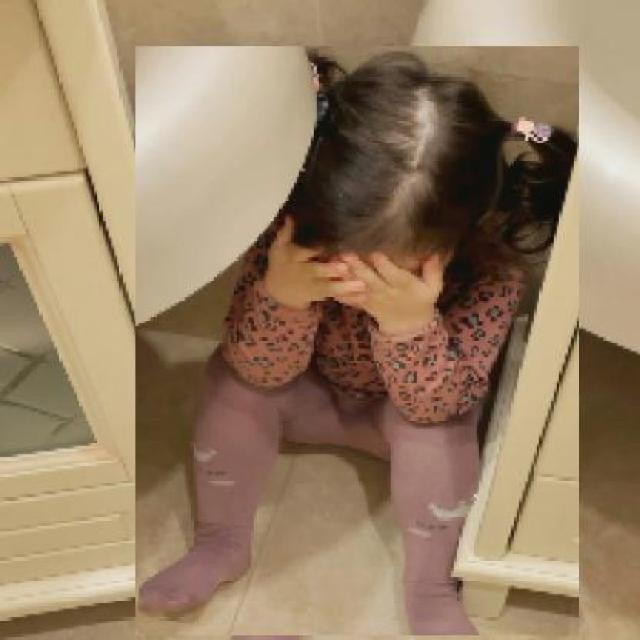child: (134, 46, 580, 637)
